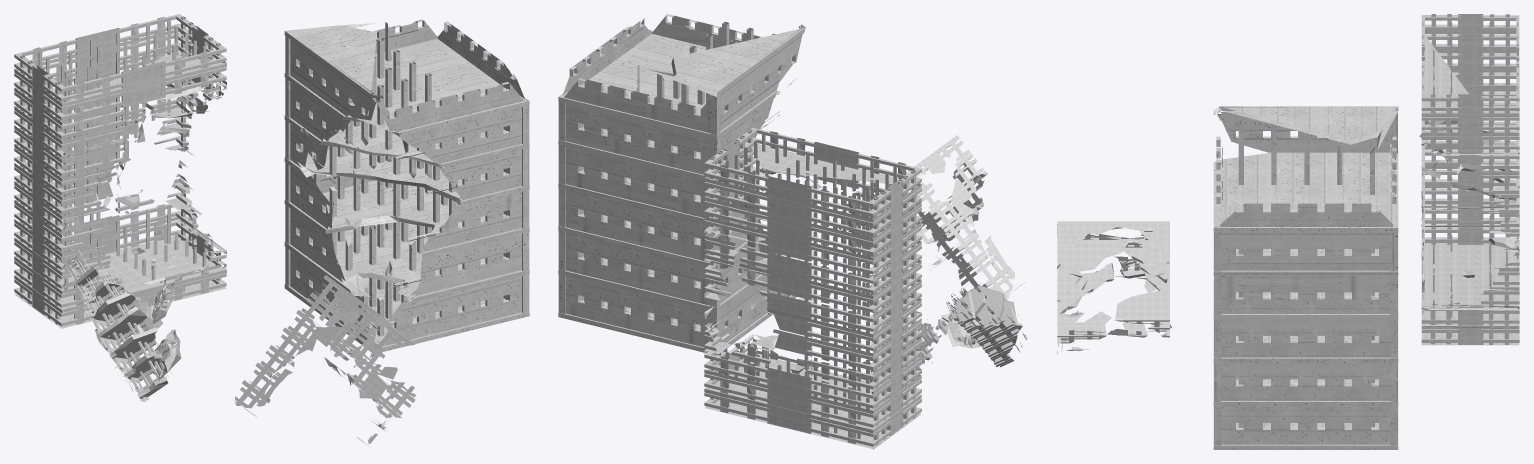
The model's file is ruins12.glb.
3 renders of one model, left to right at view 1: azimuth 30°, elevation 25°; view 2: azimuth 150°, elevation 25°; view 3: azimuth 270°, elevation 25°, orthographic. The views are drawn at different scales.
Visible parts, largest first — view 1: Cube.007, Cube.002, Cube.047, Plane.002; view 2: Cube.007, Cube.002, Cube.047, Plane.002; view 3: Cube.007, Cube.002, Cube.047.
Part boxes in pixels (x1,y1,x2,y2): Cube.007: (284,19,529,351); Cube.002: (14,14,226,328); Cube.047: (234,275,416,447); Plane.002: (63,249,181,401); Cube.007: (558,14,805,355); Cube.002: (704,128,921,449); Cube.047: (838,135,1025,298); Plane.002: (870,284,1027,376); Cube.007: (1213,106,1398,449); Cube.002: (1419,14,1519,345); Cube.047: (1057,221,1171,354).
Bounding box in the file's own units: 327 × 220 × 320.
Materials: 1 (1 with a texture image).
